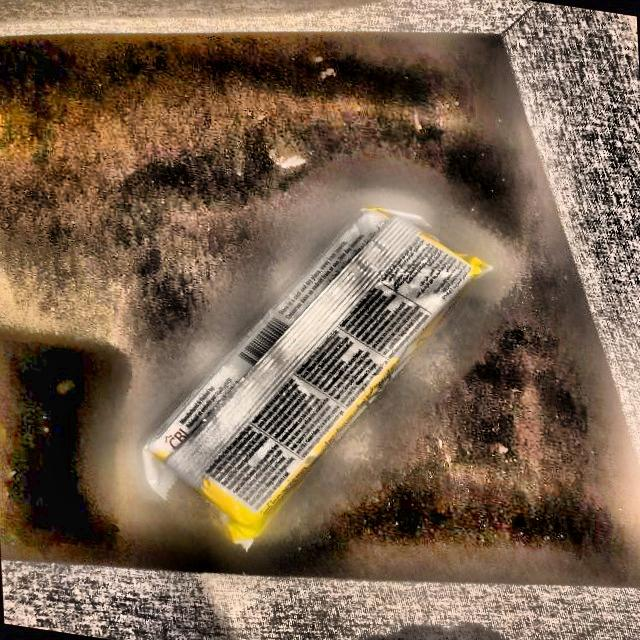lemon puff: (144, 217, 488, 538)
